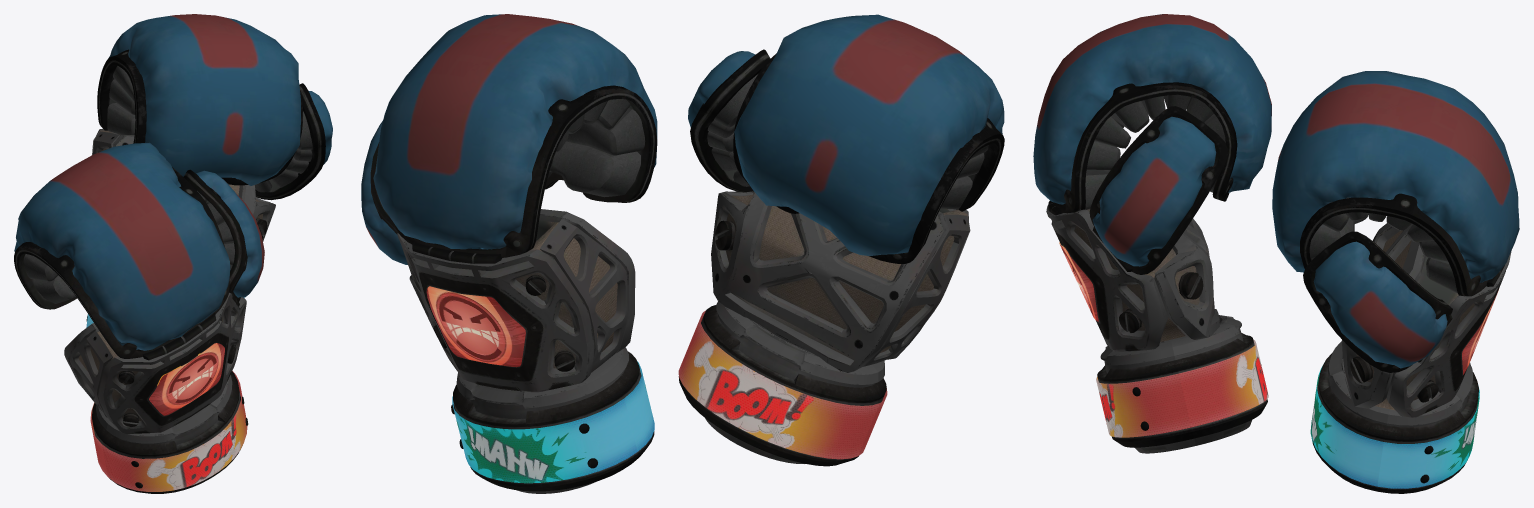
The picture shows the model from 3 angles, left to right: view 1: azimuth 30°, elevation 25°; view 2: azimuth 150°, elevation 25°; view 3: azimuth 270°, elevation 25°; orthographic projection. The views are drawn at different scales.
Parts seen in each view (by area): view 1: body_0_pathfinder_heirloom_pathfinder_heirloom_0, body_0_pathfinder_heirloom_wham_emote_pathfinder_heirloom_wh, body_0_pathfinder_base_emotes_pathfinder_base_emotes_0; view 2: body_0_pathfinder_heirloom_pathfinder_heirloom_0, body_0_pathfinder_heirloom_wham_emote_pathfinder_heirloom_wh, body_0_pathfinder_heirloom_oops_emote_pathfinder_heirloom_oo, body_0_pathfinder_base_emotes_pathfinder_base_emotes_0; view 3: body_0_pathfinder_heirloom_pathfinder_heirloom_0, body_0_pathfinder_heirloom_wham_emote_pathfinder_heirloom_wh, body_0_pathfinder_heirloom_oops_emote_pathfinder_heirloom_oo, body_0_pathfinder_base_emotes_pathfinder_base_emotes_0.
Part boxes in pixels (box(x1,y1,x2,y2)): body_0_pathfinder_heirloom_pathfinder_heirloom_0: box(14, 14, 332, 493); body_0_pathfinder_heirloom_wham_emote_pathfinder_heirloom_wh: box(90, 371, 247, 491); body_0_pathfinder_base_emotes_pathfinder_base_emotes_0: box(149, 343, 224, 415); body_0_pathfinder_heirloom_pathfinder_heirloom_0: box(361, 14, 1004, 493); body_0_pathfinder_heirloom_wham_emote_pathfinder_heirloom_wh: box(678, 310, 887, 459); body_0_pathfinder_heirloom_oops_emote_pathfinder_heirloom_oo: box(452, 361, 654, 483); body_0_pathfinder_base_emotes_pathfinder_base_emotes_0: box(426, 286, 525, 367); body_0_pathfinder_heirloom_pathfinder_heirloom_0: box(1033, 14, 1519, 493); body_0_pathfinder_heirloom_wham_emote_pathfinder_heirloom_wh: box(1096, 339, 1268, 437); body_0_pathfinder_heirloom_oops_emote_pathfinder_heirloom_oo: box(1310, 366, 1479, 488); body_0_pathfinder_base_emotes_pathfinder_base_emotes_0: box(1059, 242, 1499, 374).
Bounding box in the file's own units: 13.45 × 12.32 × 12.71.
Materials: 4 (4 with a texture image).
